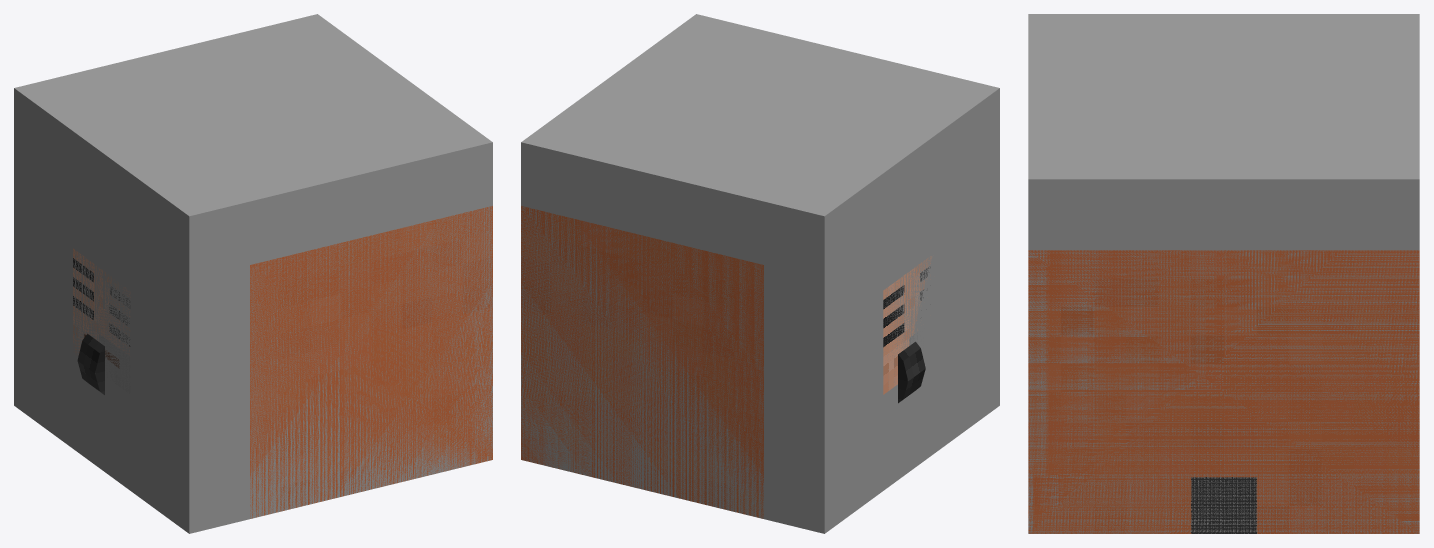
The model's file is fuelheater.obj.
3 renders of one model, left to right at view 1: azimuth 30°, elevation 25°; view 2: azimuth 150°, elevation 25°; view 3: azimuth 270°, elevation 25°, orthographic. The views are drawn at different scales.
Parts seen in each view (by area): view 1: Minecraft_Block.001_Cube.002, Main, BurnerA, BurnerC; view 2: Minecraft_Block.001_Cube.002, Main, BurnerA, BurnerC; view 3: Minecraft_Block.001_Cube.002, Main.
Boxes of the visible parts, x1,y1,x2,y2 form: Minecraft_Block.001_Cube.002: [14, 14, 492, 533]; Main: [250, 206, 492, 518]; BurnerA: [73, 248, 130, 393]; BurnerC: [77, 333, 104, 394]; Minecraft_Block.001_Cube.002: [521, 14, 999, 533]; Main: [521, 206, 763, 518]; BurnerA: [883, 256, 931, 394]; BurnerC: [898, 341, 925, 403]; Minecraft_Block.001_Cube.002: [1028, 14, 1419, 533]; Main: [1028, 250, 1419, 533].
Bounding box in the file's own units: 1.03 × 1 × 1.
Materials: 2 (1 with a texture image).
